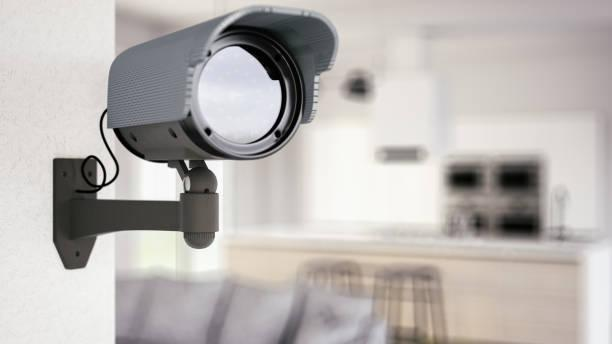camera: (77, 0, 375, 276)
